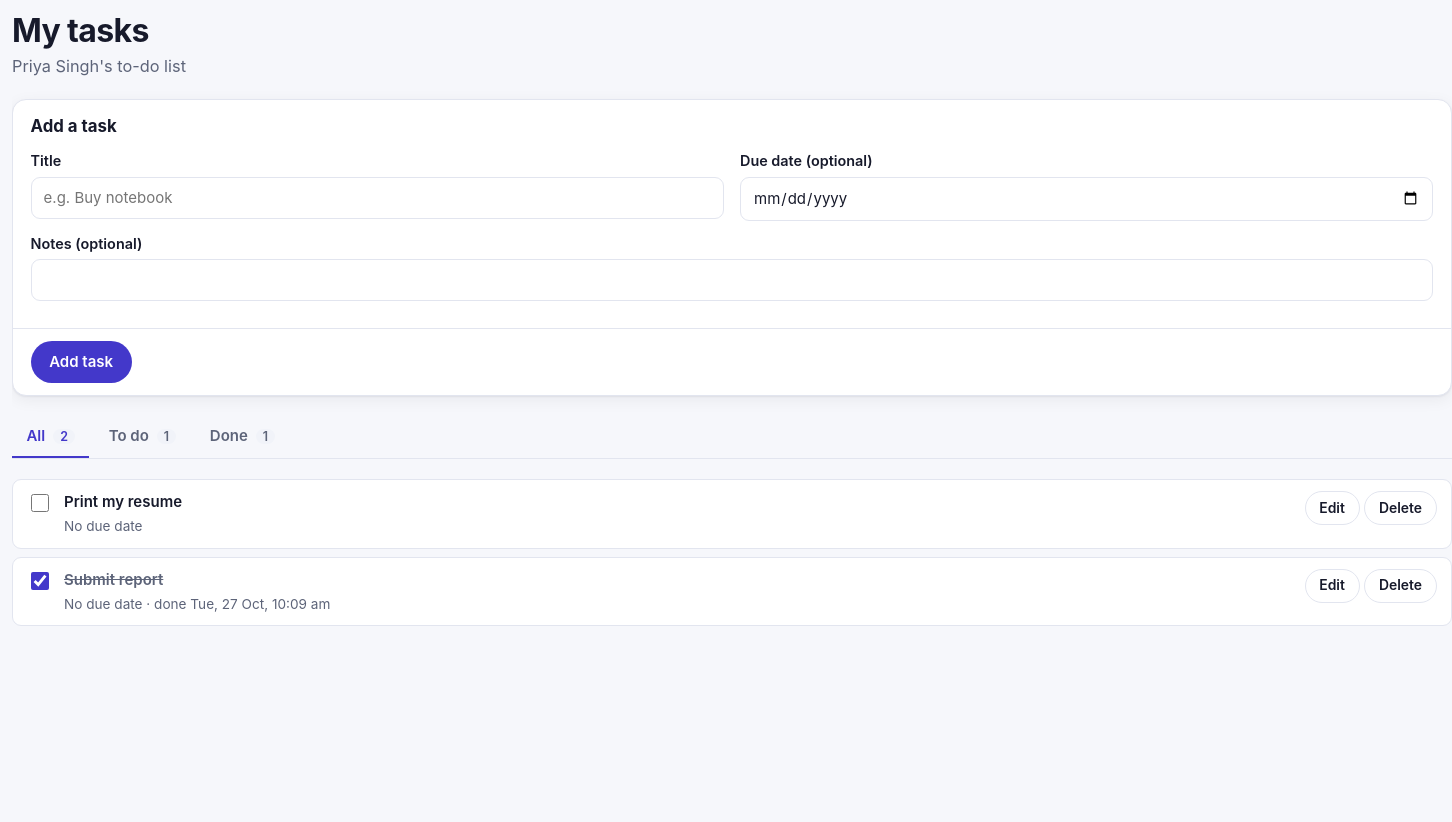
Test case: TasksPage › FS-T31 deletes a task and refreshes the list
Click the button "Delete" in the row of "Print my resume": coordinates (1400, 508) [1364,491,1437,525]
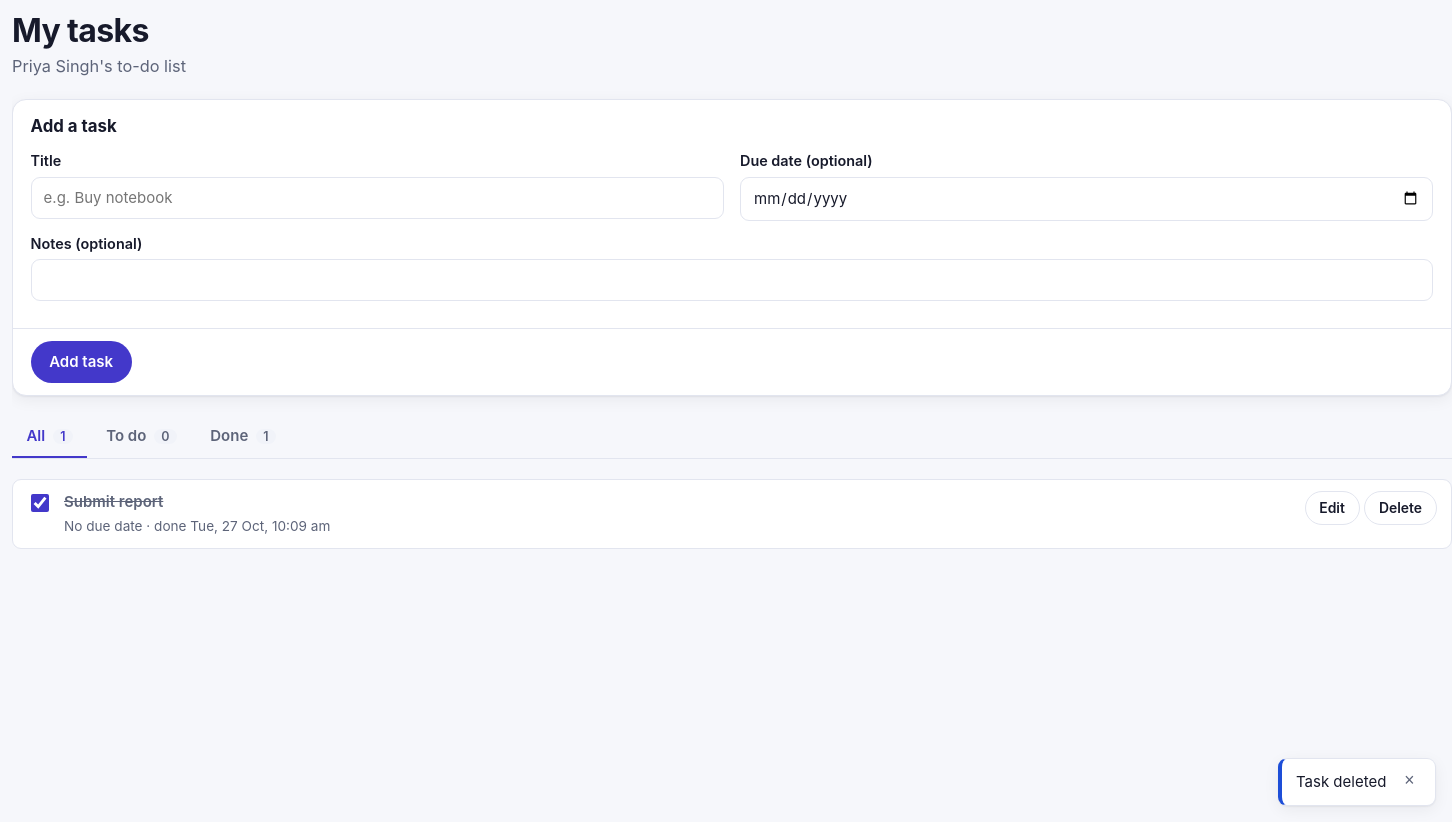
Expected: the text "Print my resume" is gone
Expected: the text "Task deleted" is shown, [1296,770,1386,793]
